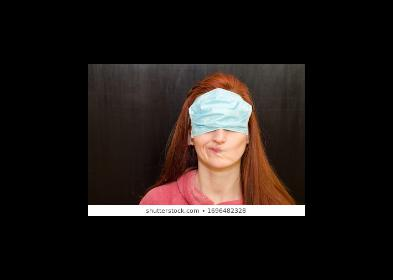mask_weared_incorrect: (192, 105, 250, 170)
